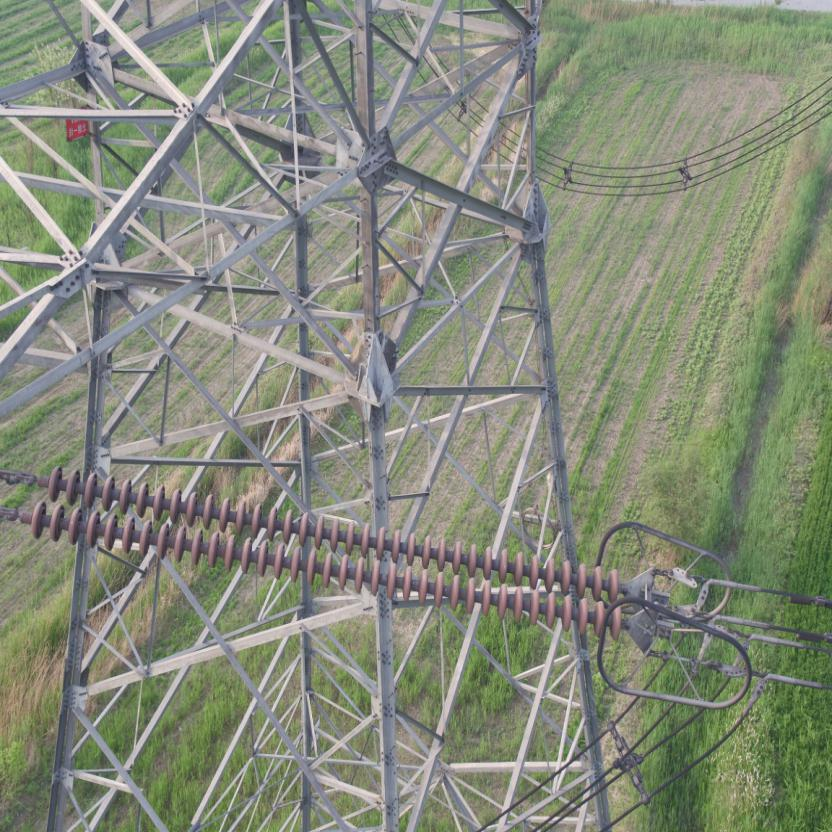insulator: (10, 458, 639, 646)
